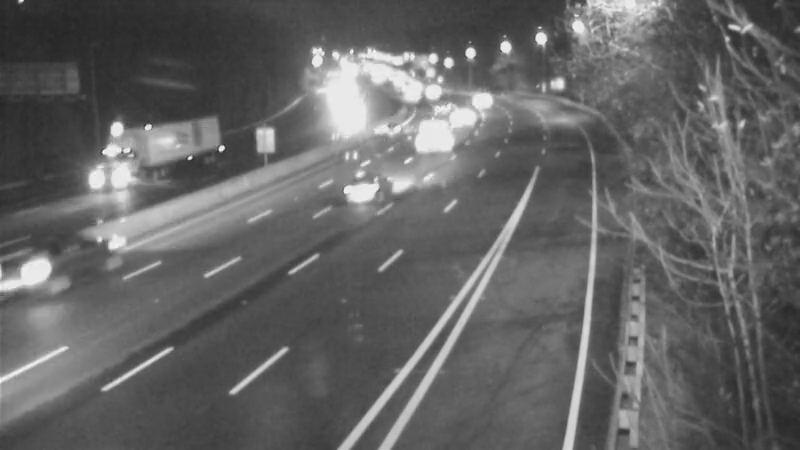vehicle: (327, 158, 407, 238), (68, 133, 148, 213), (1, 230, 73, 310), (411, 68, 461, 118), (384, 72, 434, 122), (454, 76, 504, 126), (404, 81, 454, 131), (434, 99, 484, 149), (364, 101, 414, 151), (411, 110, 461, 160)
